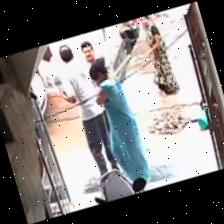person: (59, 46, 117, 175), (89, 61, 151, 181), (141, 17, 179, 95)
